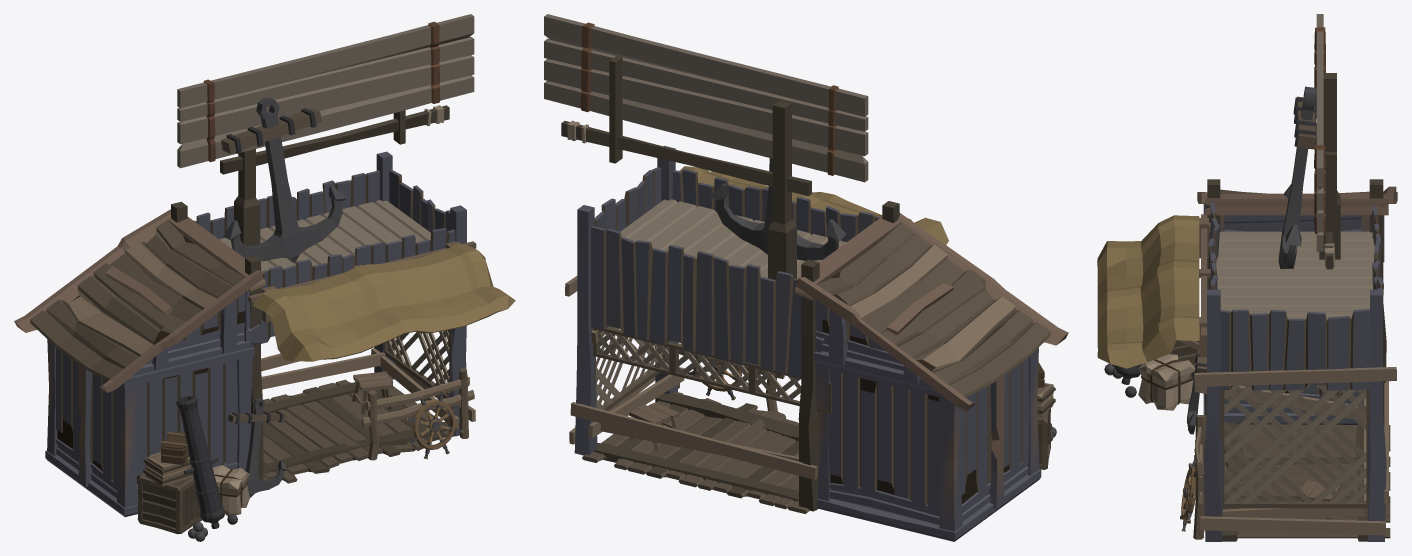
The model's file is SM_Bld_Shop_01.glb.
3 views of the same model, side by side, from view 1: azimuth 30°, elevation 25°; view 2: azimuth 150°, elevation 25°; view 3: azimuth 270°, elevation 25° (orthographic). The views are drawn at different scales.
Parts seen in each view (by area): view 1: SM_Bld_Shop_01; view 2: SM_Bld_Shop_01; view 3: SM_Bld_Shop_01.
Part boxes in pixels (x1=…): SM_Bld_Shop_01: x1=14, y1=14, x2=515, y2=541; SM_Bld_Shop_01: x1=544, y1=14, x2=1068, y2=541; SM_Bld_Shop_01: x1=1097, y1=14, x2=1397, y2=541.
Size of the model in its own units: 0.0809 by 0.0683 by 0.0451.
